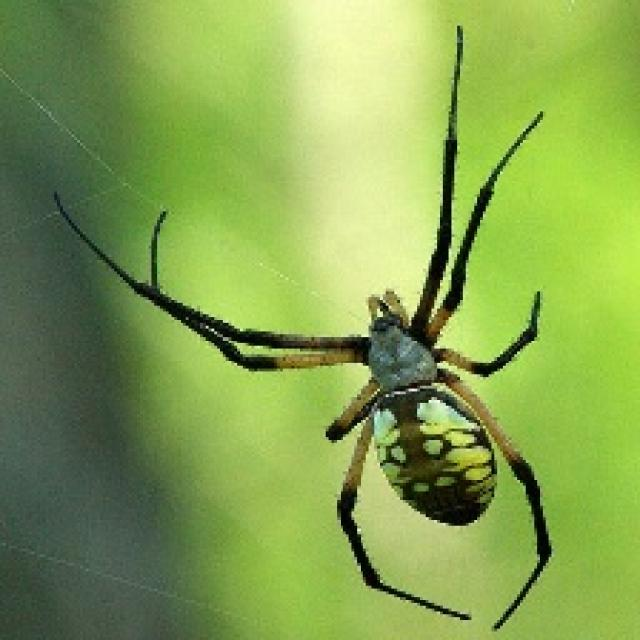Non venomous spider: (245, 234, 591, 590)
